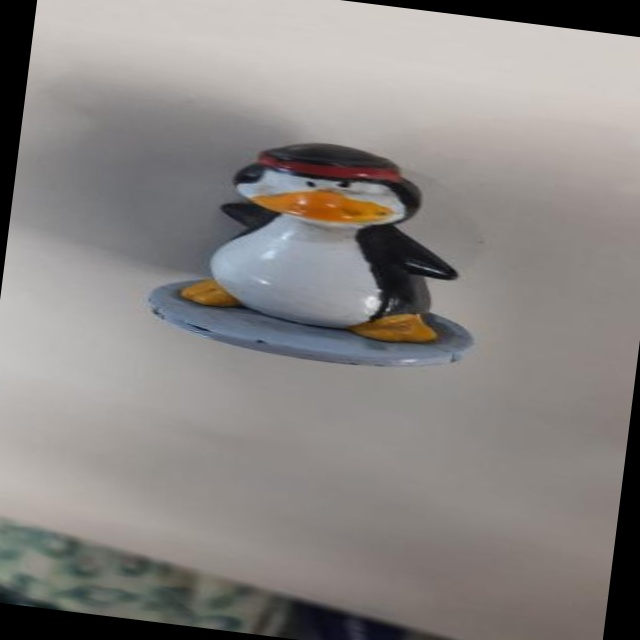Penguin: (116, 99, 524, 416)
